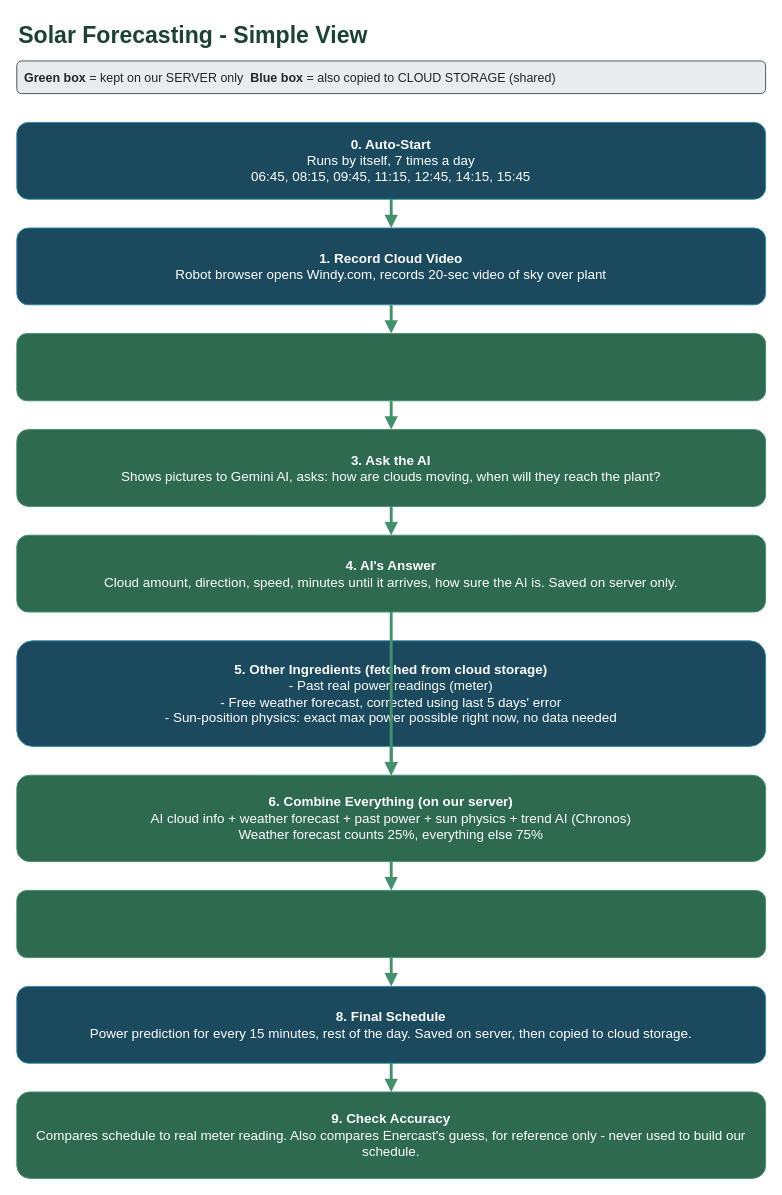
Image size: 782x1195. Some labels were removed from this diagram. Each missing label, with the centre of its shape:
2. Pick Best Frames Picks 10 clear pictures from that video (server only): the point at 391,367
7. Learn From Past Days Nudges the answer using how similar days went before: the point at 391,923
